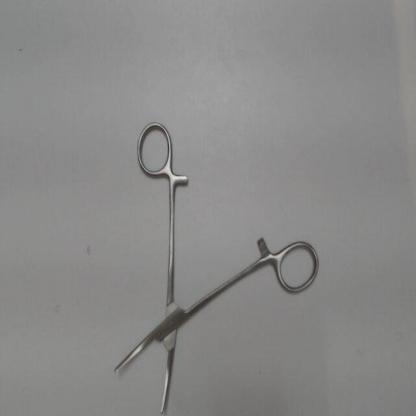Crile Artery Forceps: (106, 116, 324, 414)
